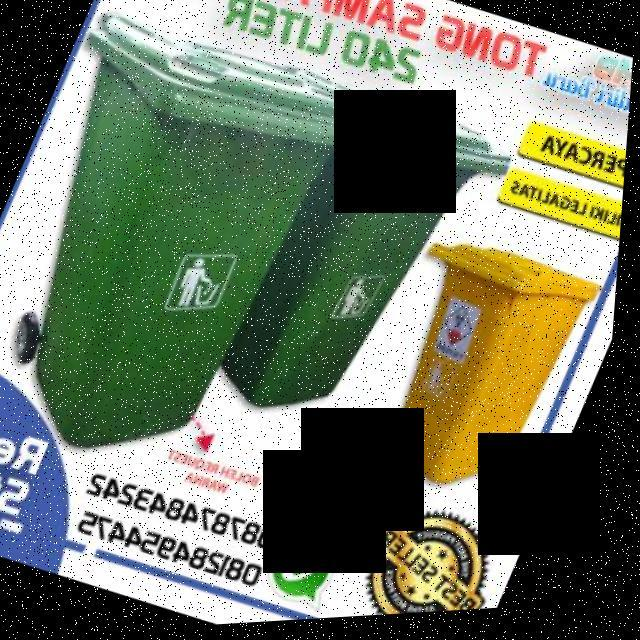bin: (0, 0, 407, 513), (213, 60, 539, 466), (343, 222, 619, 529)
